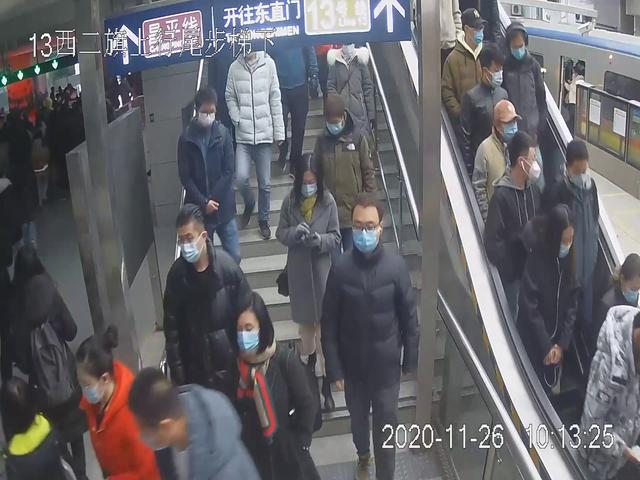person: (315, 189, 420, 480), (160, 202, 261, 407), (227, 290, 326, 480), (278, 149, 342, 421), (513, 203, 586, 416), (223, 33, 288, 248), (543, 133, 603, 357), (179, 88, 245, 289), (496, 20, 548, 203)
